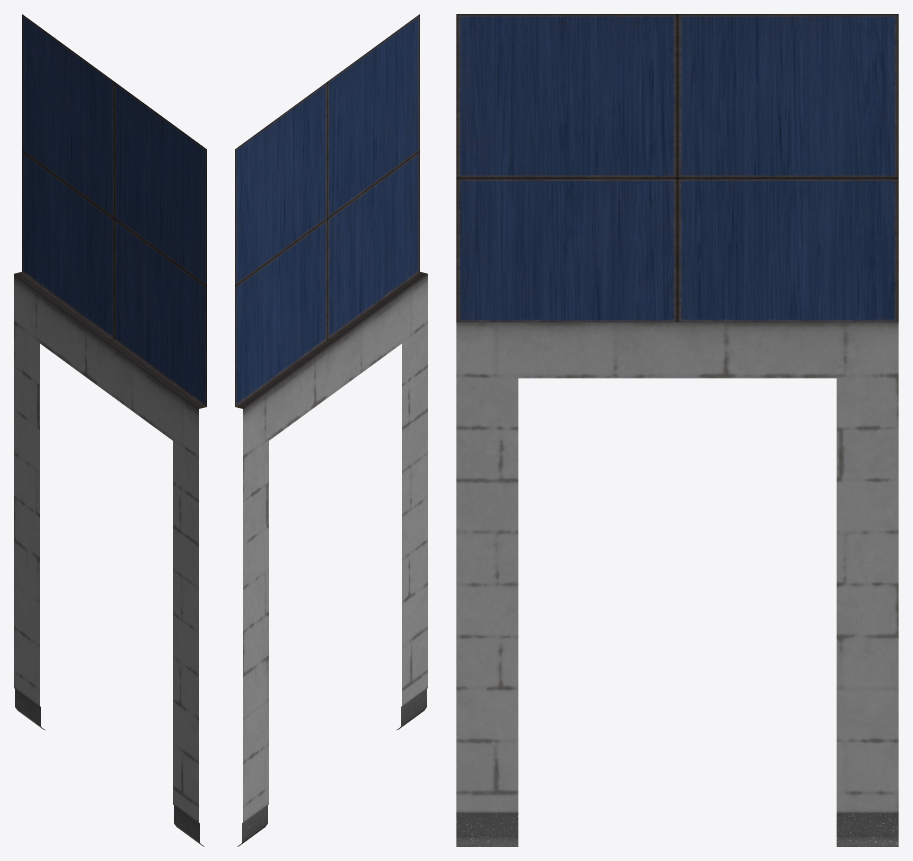
File: Cafateria 2m Door B.fbx
3 views of the same model, side by side, from view 1: azimuth 30°, elevation 25°; view 2: azimuth 150°, elevation 25°; view 3: azimuth 270°, elevation 25° (orthographic). The views are drawn at different scales.
Visible parts, largest first — view 1: Cafateria_2M_Door_B; view 2: Cafateria_2M_Door_B; view 3: Cafateria_2M_Door_B.
Boxes of the visible parts, box(x1,y1,x2,y2) form: Cafateria_2M_Door_B: box(14, 14, 206, 846); Cafateria_2M_Door_B: box(235, 14, 427, 846); Cafateria_2M_Door_B: box(456, 14, 898, 846).
Size of the model in its own units: 5 by 416 by 200.
